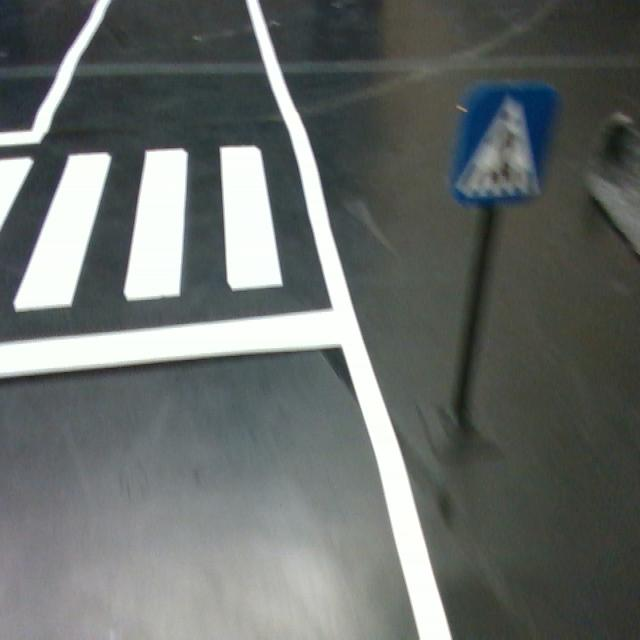crosswalk-sign: (453, 85, 559, 206)
